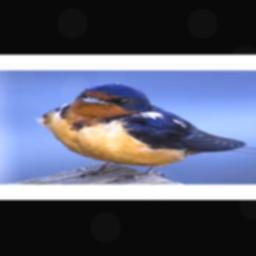Swallow: (33, 81, 256, 183)
